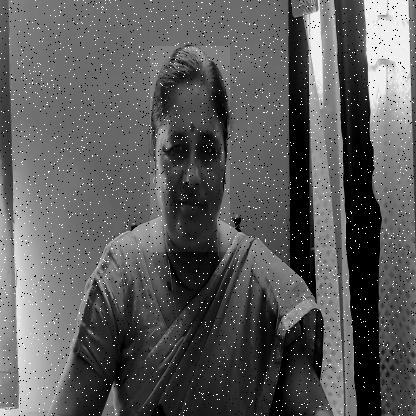Normal: (150, 46, 230, 252)
